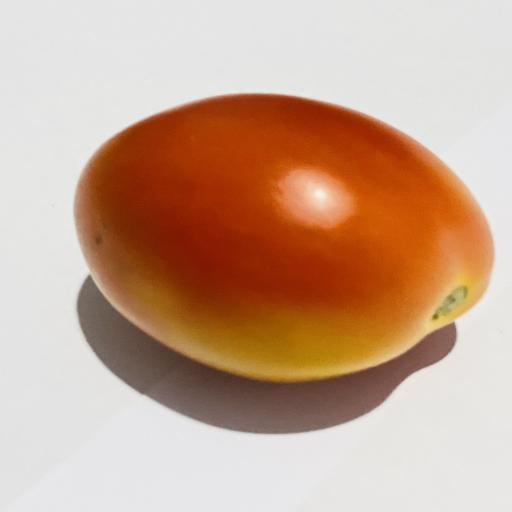ripe: (74, 94, 493, 381)
